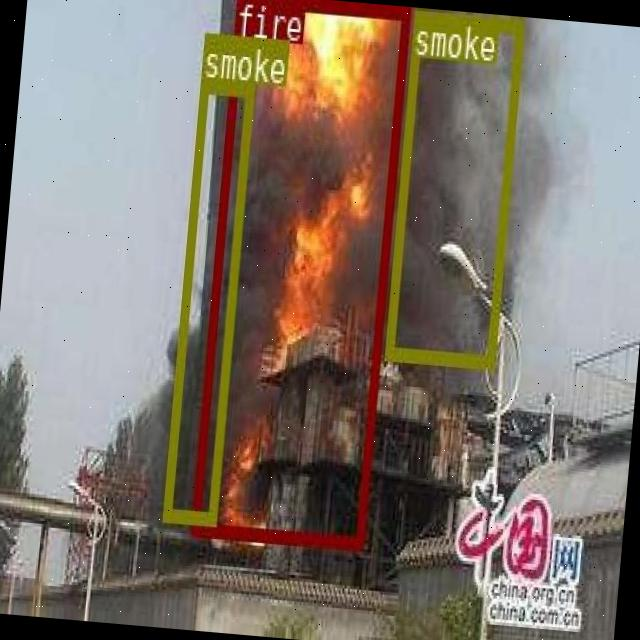fire: (190, 0, 408, 548)
smoke: (383, 8, 522, 366), (162, 76, 252, 522)
